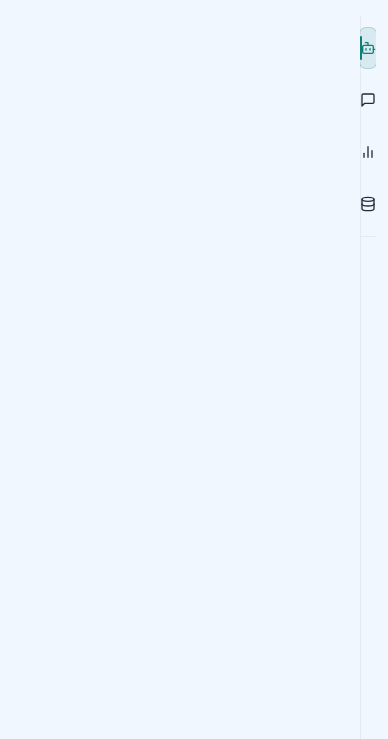
Scenario: ResizableRightSidebar › renders the admin assistant on admin pages
Click the button named "Åpne AI-Revy Chat": (368, 48) left=360, top=28, right=376, bottom=68
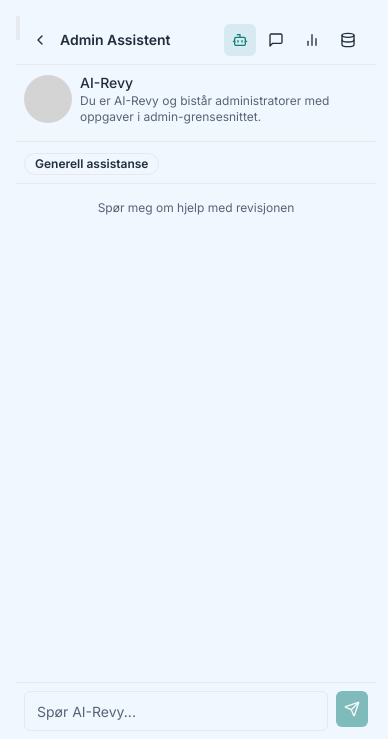
Expected: the heading "Admin Assistent" is shown, left=60, top=30, right=170, bottom=50
